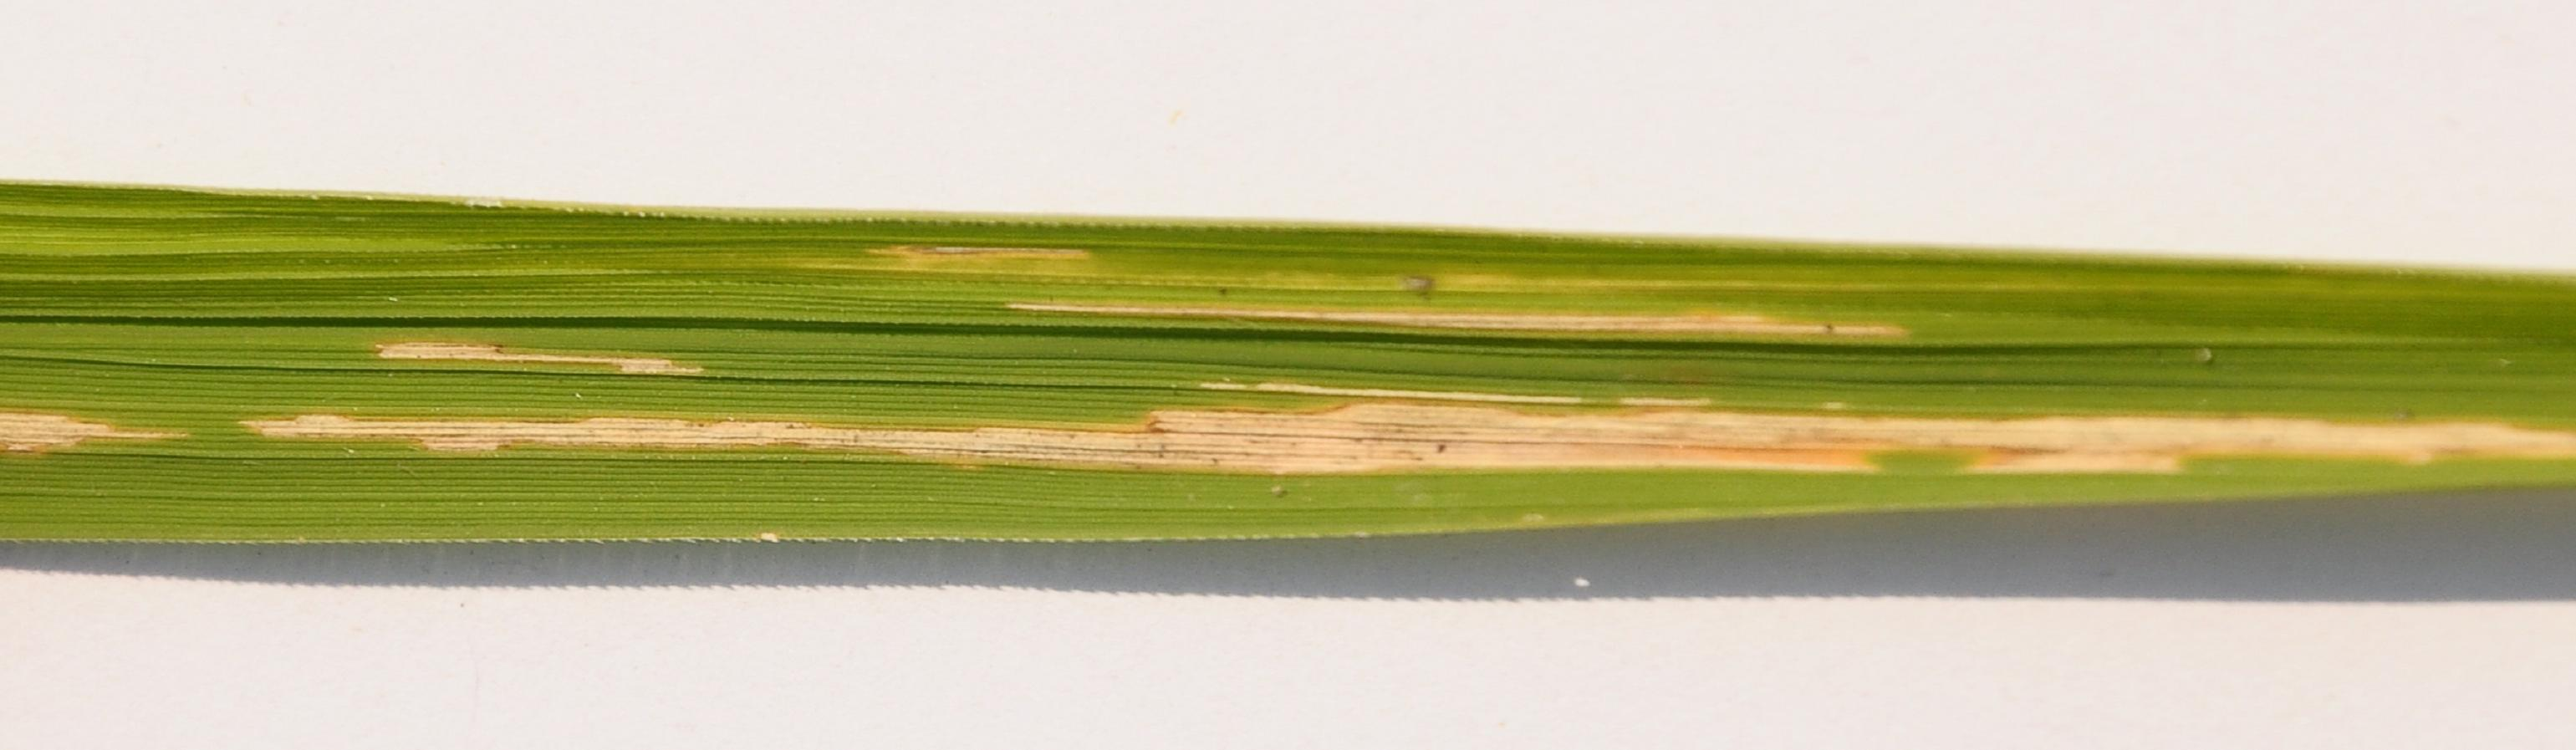bacterial_leaf_blight: (125, 236, 2482, 489)
